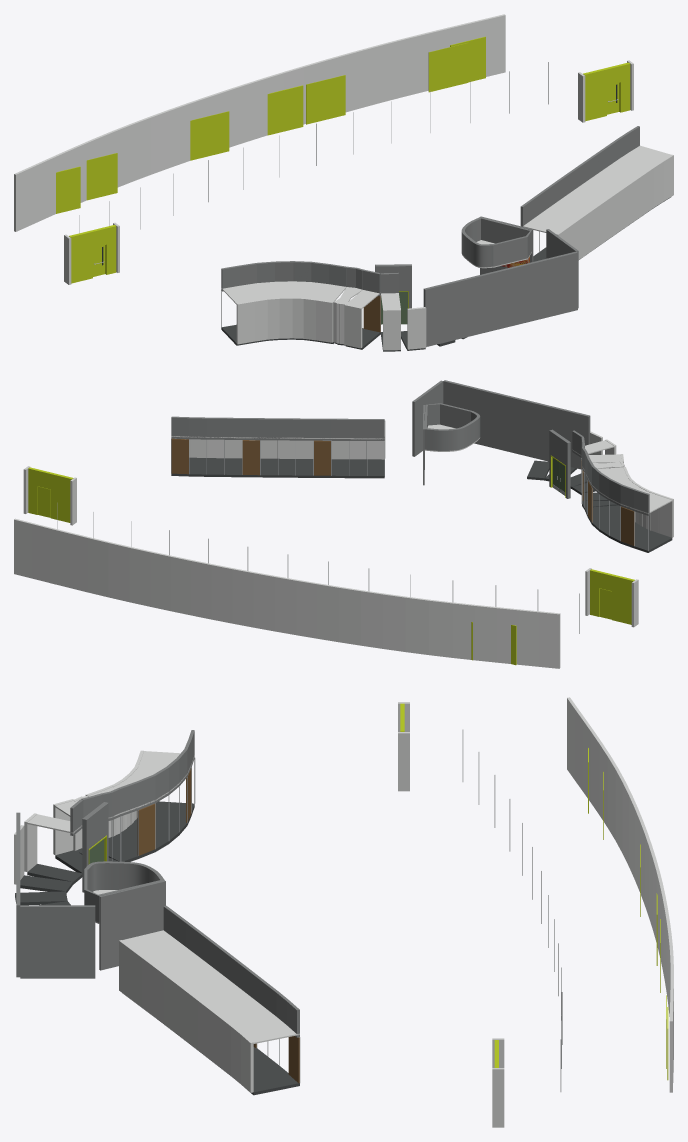
Rendered from SM_L4_Rooms_Solid_c33f971a4c_0.fbx.
3 renders of one model, top to bottom at view 1: azimuth 30°, elevation 25°; view 2: azimuth 150°, elevation 25°; view 3: azimuth 270°, elevation 25°, orthographic. The views are drawn at different scales.
Parts seen in each view (by area): view 1: SM_L4_Rooms_Solid_c33f971a4c_0; view 2: SM_L4_Rooms_Solid_c33f971a4c_0; view 3: SM_L4_Rooms_Solid_c33f971a4c_0.
Part boxes in pixels (x1,y1,x2,y2): SM_L4_Rooms_Solid_c33f971a4c_0: (14, 14, 673, 351); SM_L4_Rooms_Solid_c33f971a4c_0: (14, 380, 673, 668); SM_L4_Rooms_Solid_c33f971a4c_0: (14, 697, 673, 1127).
Size of the model in its own units: 47.42 by 36 by 4.6.
